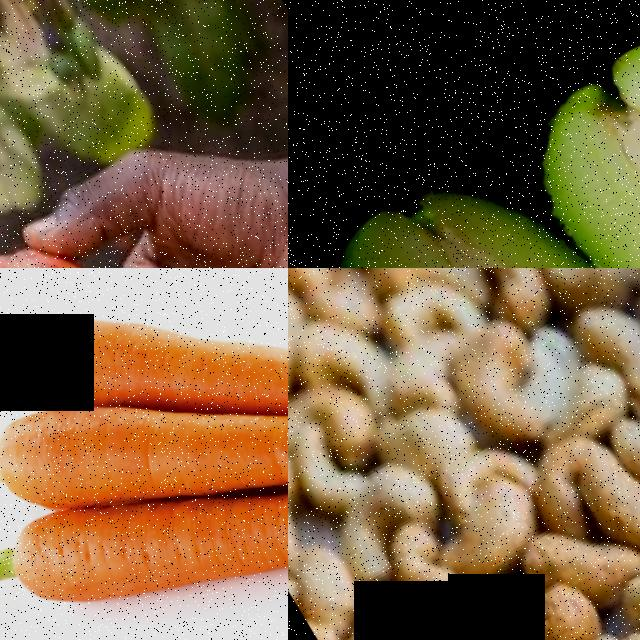carrot: (0, 353, 173, 546), (0, 268, 178, 432)
cashew: (398, 465, 551, 606), (304, 453, 449, 572), (517, 511, 640, 621), (463, 563, 601, 640), (566, 298, 640, 419), (574, 463, 640, 571), (365, 584, 486, 640), (288, 443, 332, 589), (607, 377, 640, 492)
chayote: (288, 132, 640, 268), (526, 0, 640, 268)
